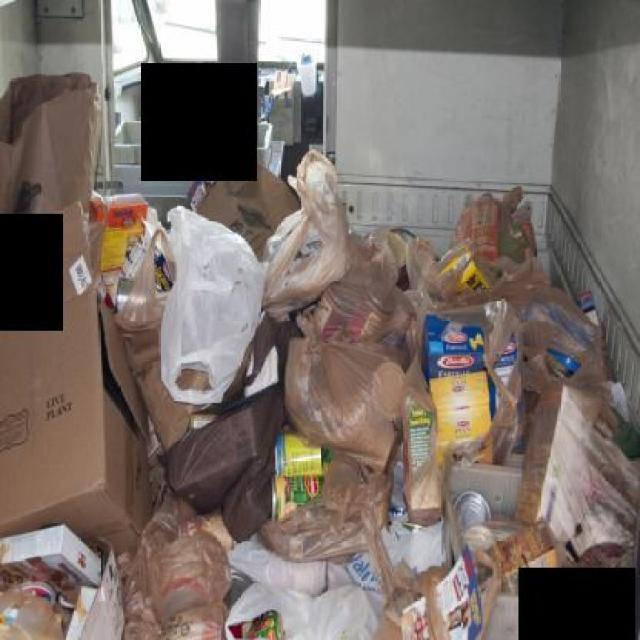plastic bag: (107, 143, 640, 638), (157, 207, 269, 416)
